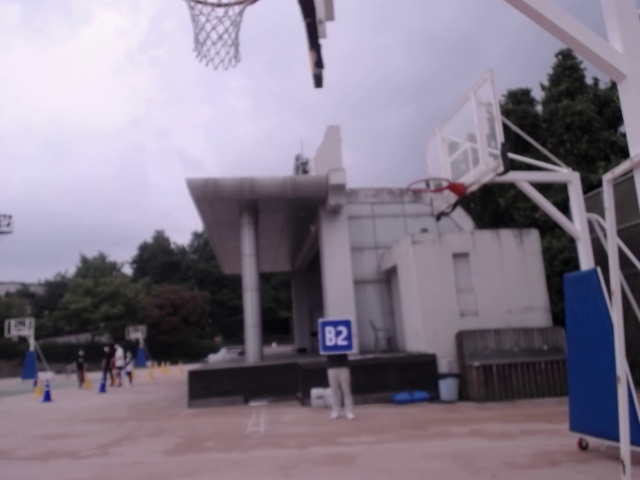delivery_b2: (317, 317, 353, 355)
